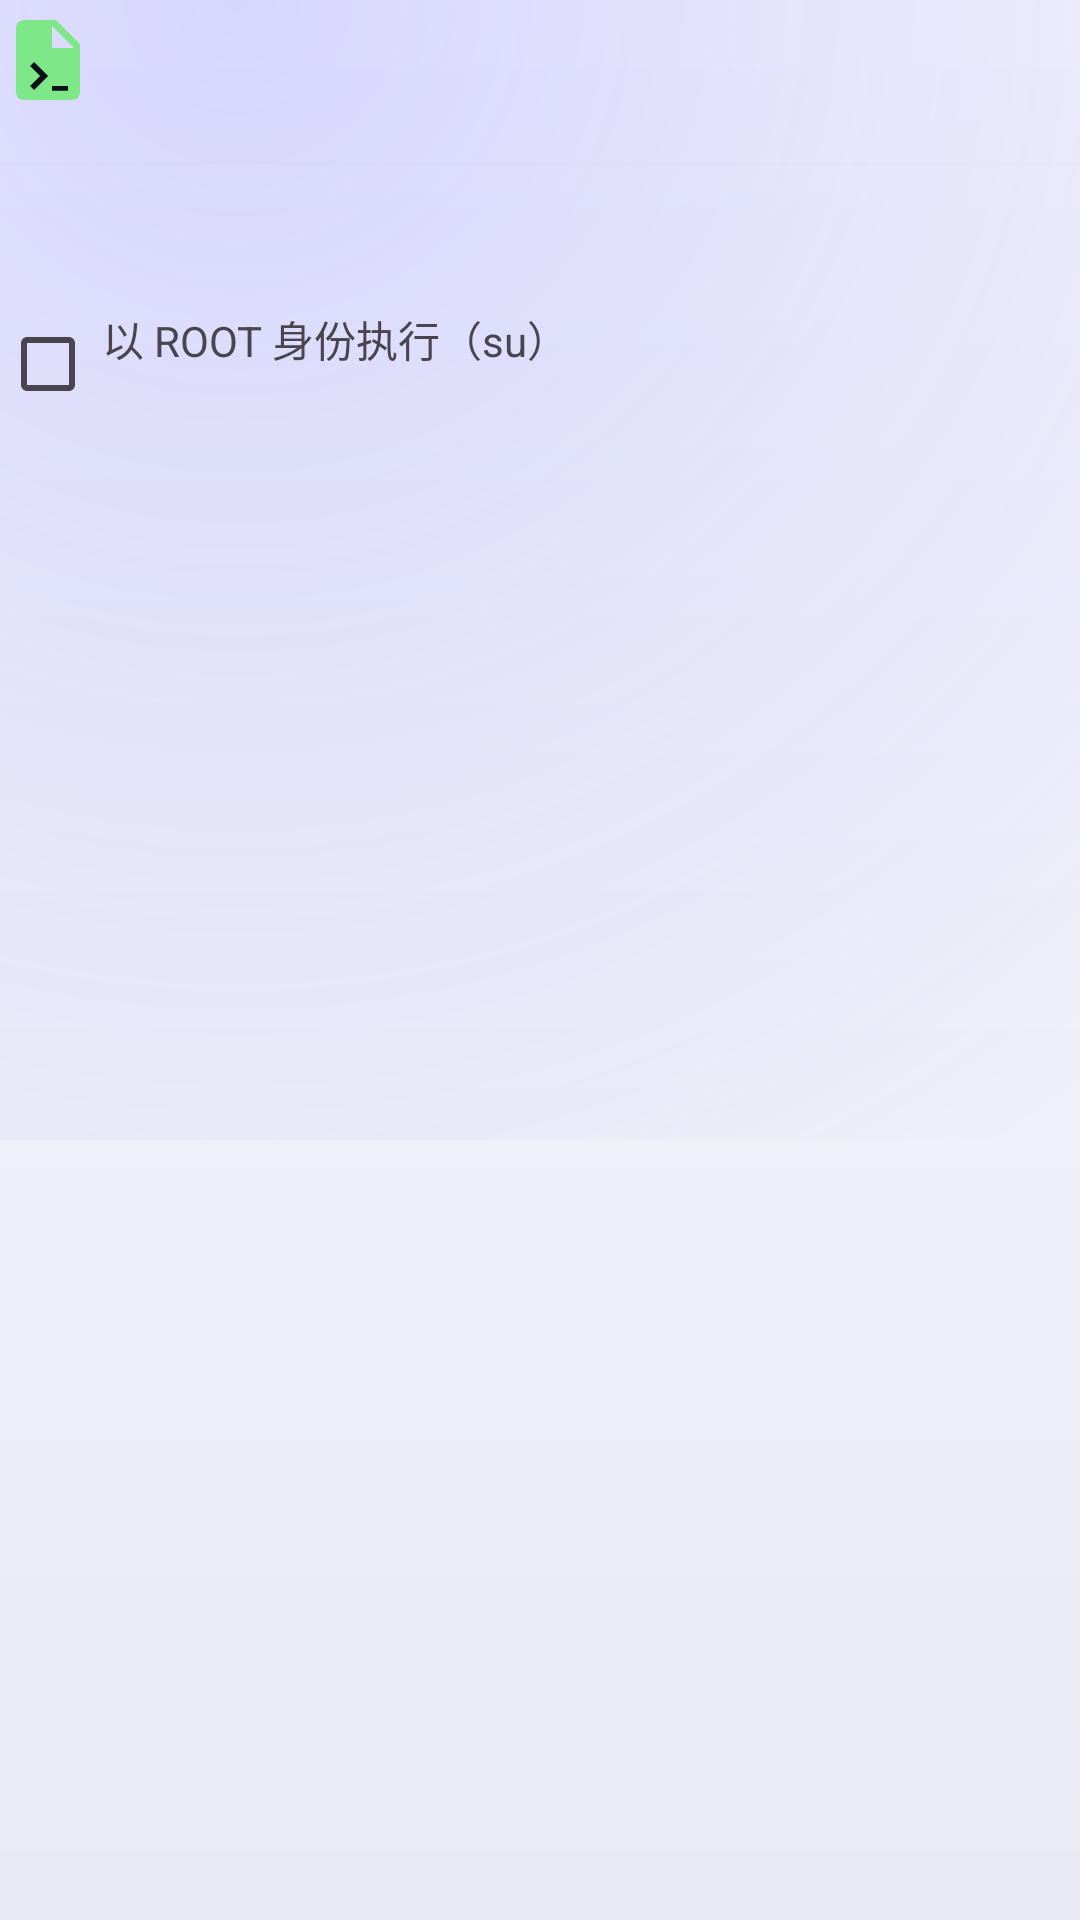

Icons on this 1080 x 1920 Android screen, each with its box as (x1, y1, x2, y2):
脚本: (16, 20, 80, 100)
